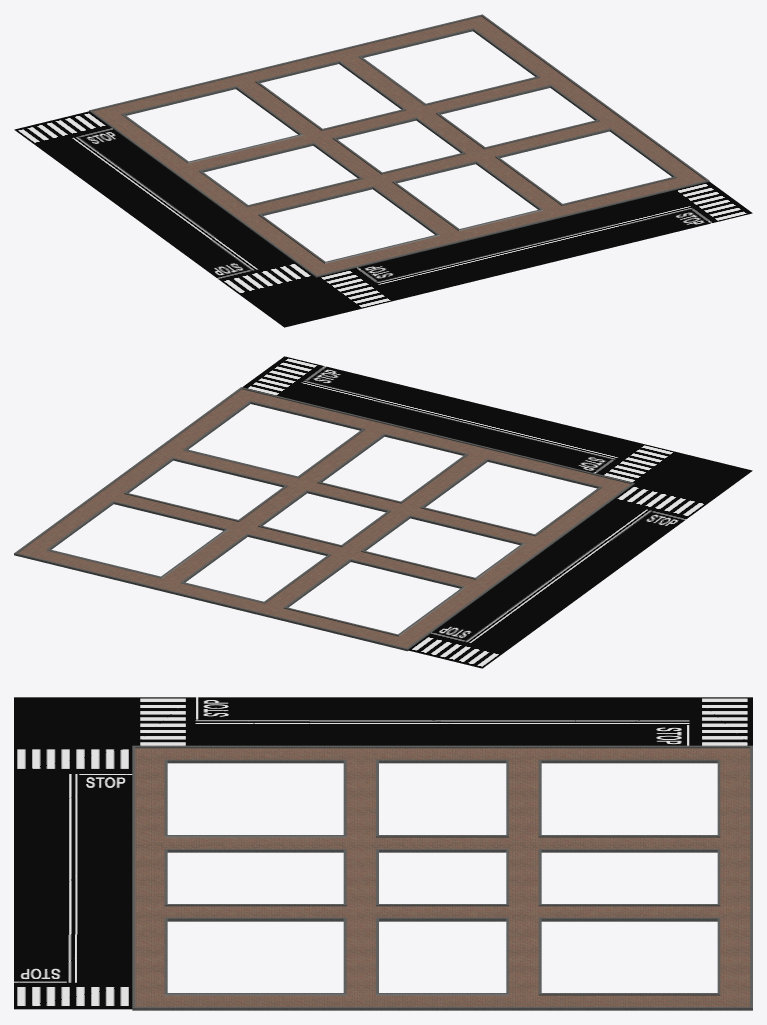
Rendered from Street_04.fbx.
The picture shows the model from 3 angles, top to bottom: view 1: azimuth 30°, elevation 25°; view 2: azimuth 150°, elevation 25°; view 3: azimuth 270°, elevation 25°; orthographic projection. The views are drawn at different scales.
Visible parts, largest first — view 1: sidewalk, road; view 2: sidewalk, road; view 3: sidewalk, road.
Boxes of the visible parts, x1=… form: sidewalk: x1=89, y1=14, x2=709, y2=277; road: x1=14, y1=111, x2=752, y2=327; sidewalk: x1=14, y1=387, x2=634, y2=651; road: x1=242, y1=356, x2=752, y2=668; sidewalk: x1=132, y1=745, x2=752, y2=1010; road: x1=14, y1=697, x2=752, y2=1009.
Size of the model in its own units: 5000 by 20 by 5000.
4 materials, 3 textured.
